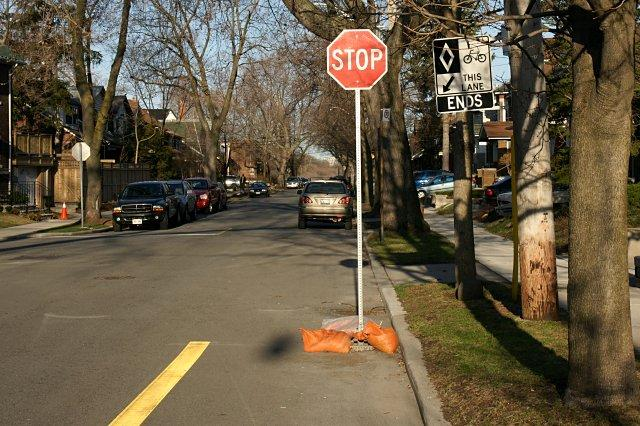Pole: (353, 88, 365, 333), (79, 162, 84, 227)
Sign: (327, 30, 388, 89), (71, 143, 92, 161)
